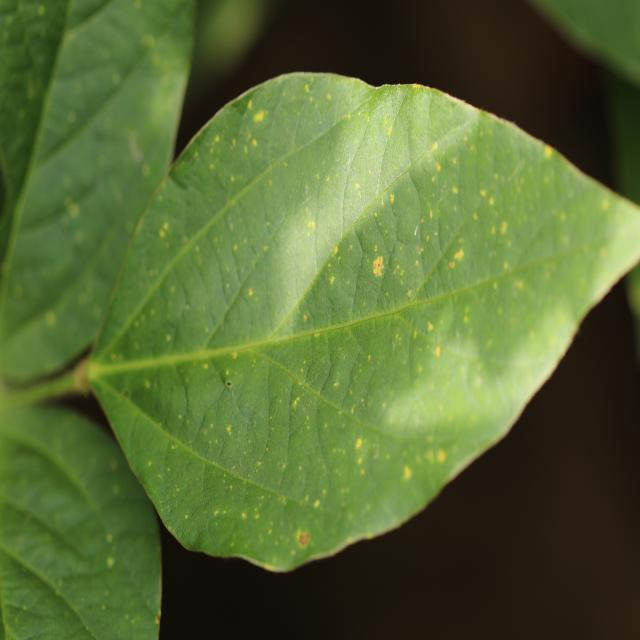Soybean: (84, 72, 640, 578)
downey_mildew: (98, 81, 398, 538), (268, 133, 583, 450), (90, 374, 254, 546), (204, 325, 352, 511), (317, 121, 442, 341), (485, 161, 640, 334), (314, 382, 478, 539), (1, 155, 120, 361), (90, 167, 214, 364), (413, 123, 539, 313), (24, 6, 153, 191), (186, 131, 303, 329), (4, 416, 120, 564), (380, 263, 566, 346), (321, 227, 439, 349), (255, 345, 399, 440), (484, 283, 586, 394), (348, 297, 443, 416), (34, 109, 123, 236), (249, 76, 369, 158), (213, 91, 298, 193), (406, 111, 457, 266), (253, 193, 310, 325), (197, 442, 273, 535), (196, 369, 259, 475), (9, 3, 61, 120), (122, 55, 182, 153), (352, 85, 429, 160), (260, 346, 297, 497), (312, 222, 363, 330), (354, 203, 398, 302), (206, 203, 244, 304), (317, 330, 361, 405), (383, 226, 423, 302), (393, 180, 426, 247)
